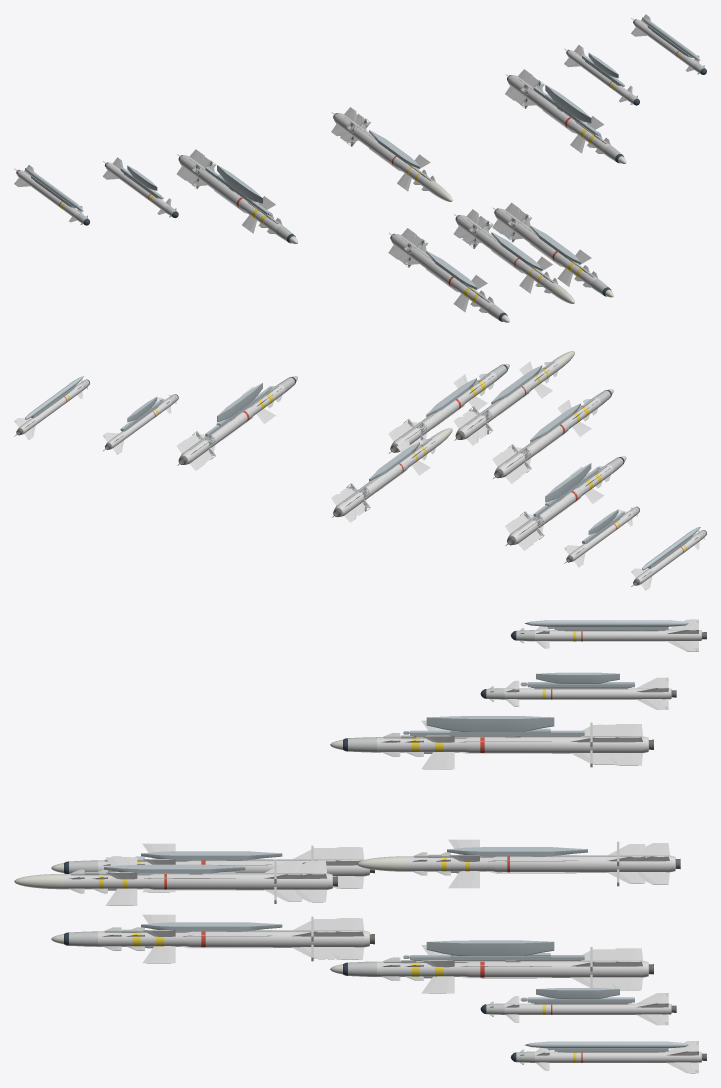
The model's file is su27_stores.glb.
3 views of the same model, one above another, from view 1: azimuth 30°, elevation 25°; view 2: azimuth 150°, elevation 25°; view 3: azimuth 270°, elevation 25° (orthographic). The views are drawn at different scales.
Parts seen in each view (by area): view 1: STA_5_R-27ER, STA_6_R-27ER, STA_3_R-27ER, STA_4_R-27ER, STA_7_R-27ER, STA_8_R-27ER, STA_7_R-27ET, STA_8_R-27ET, STA_3_R-27ET, STA_4_R-27ET, STA_2_R-73, STA_9_R-73 (+6 smaller); view 2: STA_6_R-27ER, STA_5_R-27ER, STA_4_R-27ER, STA_8_R-27ER, STA_3_R-27ER, STA_7_R-27ER, STA_8_R-27ET, STA_7_R-27ET, STA_4_R-27ET, STA_9_R-73, STA_2_R-73, STA_3_R-27ET (+15 smaller); view 3: STA_5_R-27ER, STA_6_R-27ER, STA_4_R-27ER, STA_3_R-27ER, STA_8_R-27ER, STA_8_R-27ET, STA_2_R-73, STA_9_R-73, STA_8_PYLON, STA_3_PYLON, STA_10_R-73, STA_1_R-73 (+20 smaller).
Part boxes in pixels (x1=…): STA_5_R-27ER: x1=453, y1=209, x2=574, y2=303; STA_6_R-27ER: x1=331, y1=107, x2=452, y2=201; STA_3_R-27ER: x1=505, y1=69, x2=626, y2=163; STA_4_R-27ER: x1=492, y1=202, x2=613, y2=297; STA_7_R-27ER: x1=388, y1=228, x2=509, y2=322; STA_8_R-27ER: x1=176, y1=149, x2=297, y2=243; STA_7_R-27ET: x1=393, y1=231, x2=507, y2=321; STA_8_R-27ET: x1=181, y1=152, x2=295, y2=243; STA_3_R-27ET: x1=509, y1=72, x2=623, y2=163; STA_4_R-27ET: x1=496, y1=206, x2=611, y2=296; STA_2_R-73: x1=564, y1=45, x2=639, y2=105; STA_9_R-73: x1=103, y1=157, x2=178, y2=217; STA_6_R-27ER: x1=331, y1=428, x2=452, y2=522; STA_5_R-27ER: x1=453, y1=351, x2=574, y2=445; STA_4_R-27ER: x1=388, y1=364, x2=509, y2=453; STA_8_R-27ER: x1=505, y1=456, x2=626, y2=550; STA_3_R-27ER: x1=176, y1=376, x2=297, y2=470; STA_7_R-27ER: x1=492, y1=389, x2=613, y2=483; STA_8_R-27ET: x1=510, y1=457, x2=624, y2=547; STA_7_R-27ET: x1=497, y1=390, x2=611, y2=480; STA_4_R-27ET: x1=393, y1=364, x2=507, y2=445; STA_9_R-73: x1=564, y1=506, x2=639, y2=567; STA_2_R-73: x1=103, y1=394, x2=178, y2=454; STA_3_R-27ET: x1=181, y1=377, x2=295, y2=467; STA_5_R-27ER: x1=14, y1=857, x2=337, y2=905; STA_6_R-27ER: x1=357, y1=839, x2=680, y2=888; STA_4_R-27ER: x1=51, y1=914, x2=374, y2=963; STA_3_R-27ER: x1=330, y1=945, x2=653, y2=993; STA_8_R-27ER: x1=330, y1=720, x2=653, y2=769; STA_8_R-27ET: x1=343, y1=724, x2=632, y2=769; STA_2_R-73: x1=480, y1=993, x2=676, y2=1025; STA_9_R-73: x1=480, y1=677, x2=676, y2=709; STA_8_PYLON: x1=403, y1=716, x2=584, y2=736; STA_3_PYLON: x1=403, y1=940, x2=584, y2=960; STA_10_R-73: x1=510, y1=619, x2=706, y2=651; STA_1_R-73: x1=510, y1=1041, x2=706, y2=1073.
Bounding box in the file's own units: 15.21 × 1.5 × 10.31.
